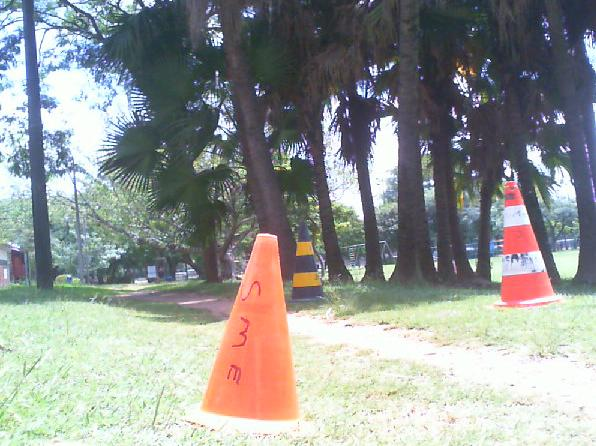0 cone: (186, 234, 306, 436), (494, 182, 562, 308), (288, 221, 324, 303)
